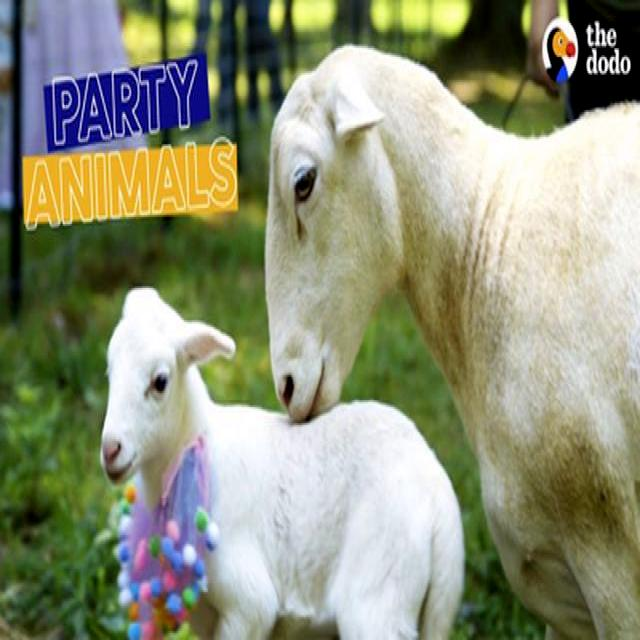sheep: (267, 48, 640, 640), (101, 290, 465, 640)
